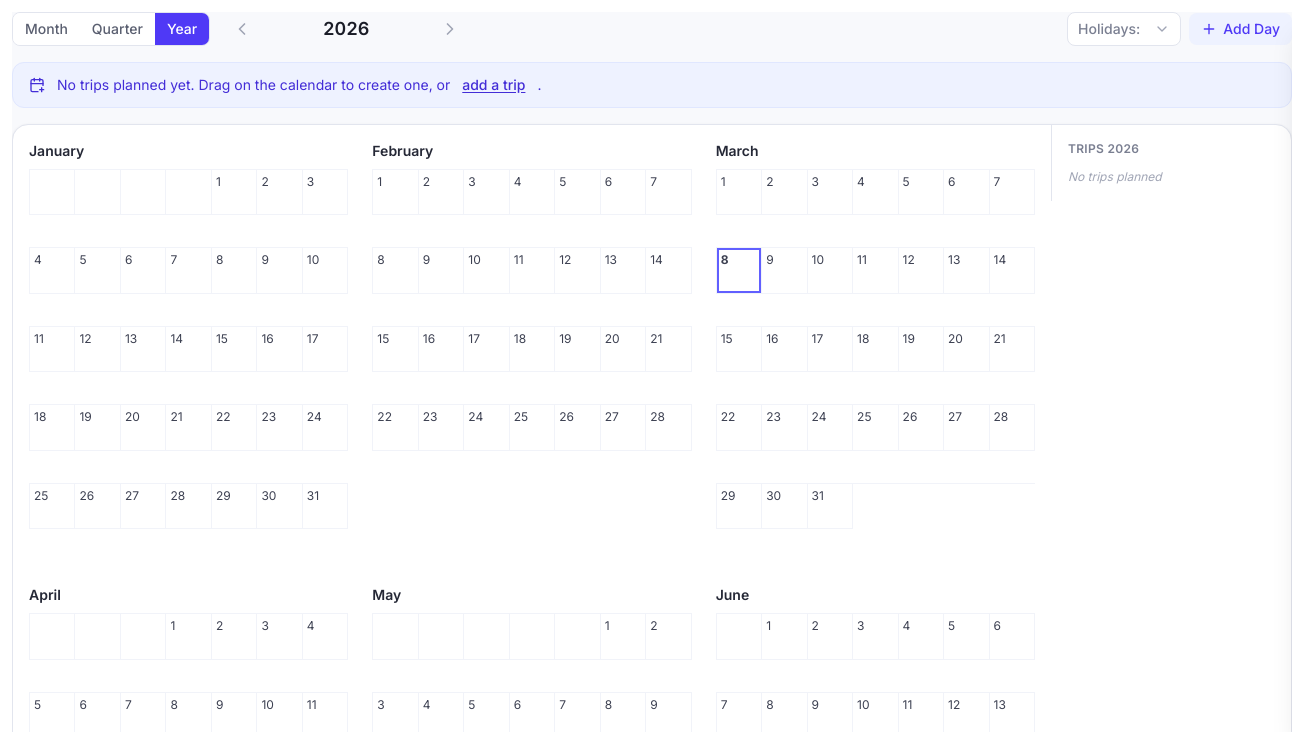
Test case: PlanningCenterPage › shows holiday country dropdown
This screenshot has width=1304, height=732.
Expected: the text "Holidays:" is shown, [1078,19,1140,39]
// Click the trigger button that contains "Holidays:"
Click the button "Holidays:". click: (1124, 29)
box: [1067,12,1181,46]
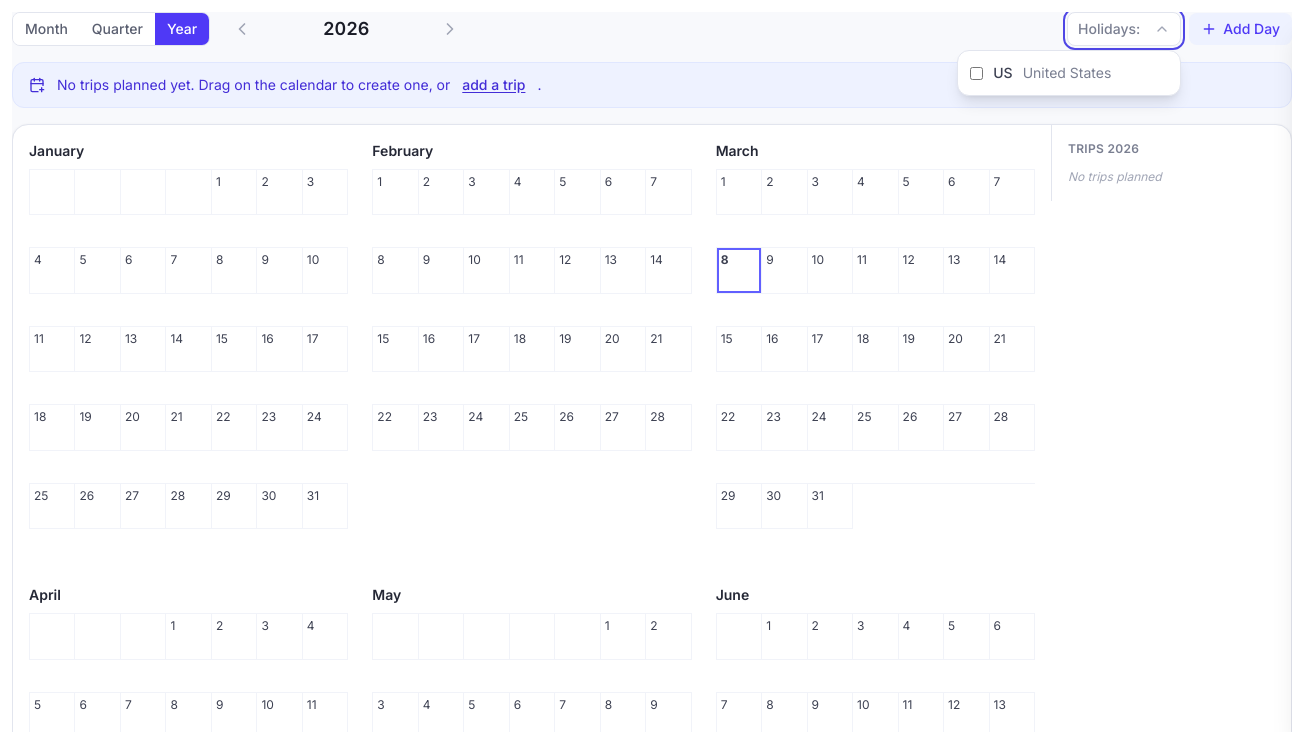
Result: the text "United States" is shown at [1023,63,1111,83]
